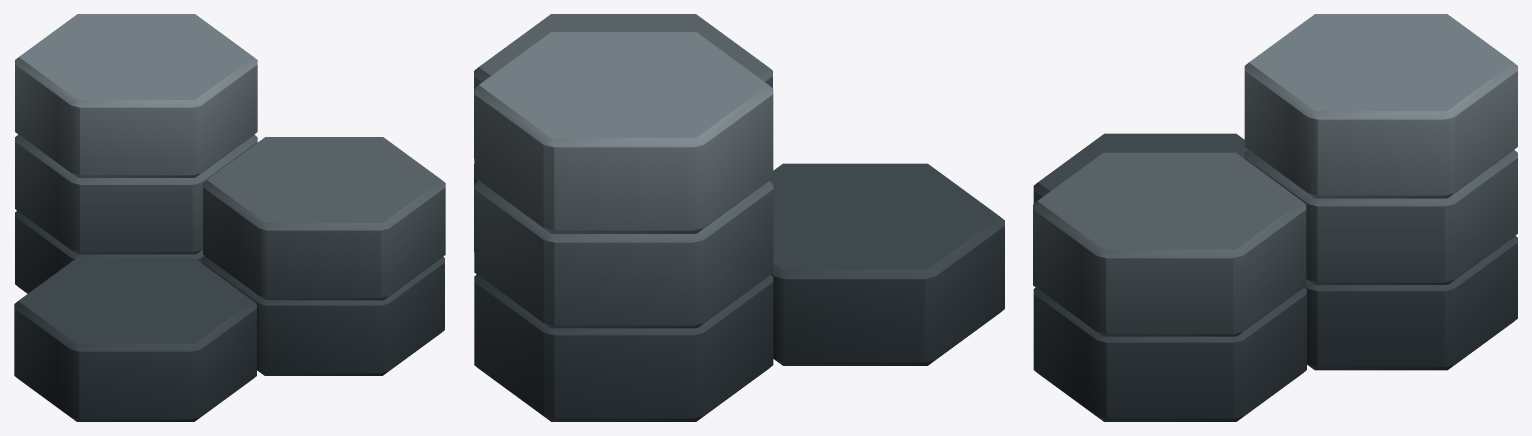
Rendered from Mixed_Hex.fbx.
3 renders of one model, left to right at view 1: azimuth 30°, elevation 25°; view 2: azimuth 150°, elevation 25°; view 3: azimuth 270°, elevation 25°, orthographic. The views are drawn at different scales.
Visible parts, largest first — view 1: Mixed Hex; view 2: Mixed Hex; view 3: Mixed Hex.
Boxes of the visible parts, left/top/right/bottom form: Mixed Hex: left=14, top=14, right=445, bottom=421; Mixed Hex: left=474, top=14, right=1004, bottom=421; Mixed Hex: left=1033, top=14, right=1517, bottom=421.
Bounding box in the file's own units: 118 × 69.06 × 117.
